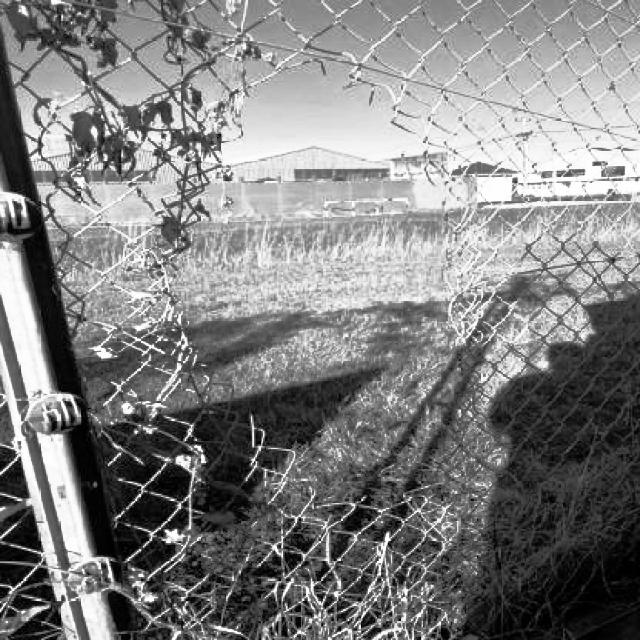anomaly-fence: (141, 11, 588, 632)
